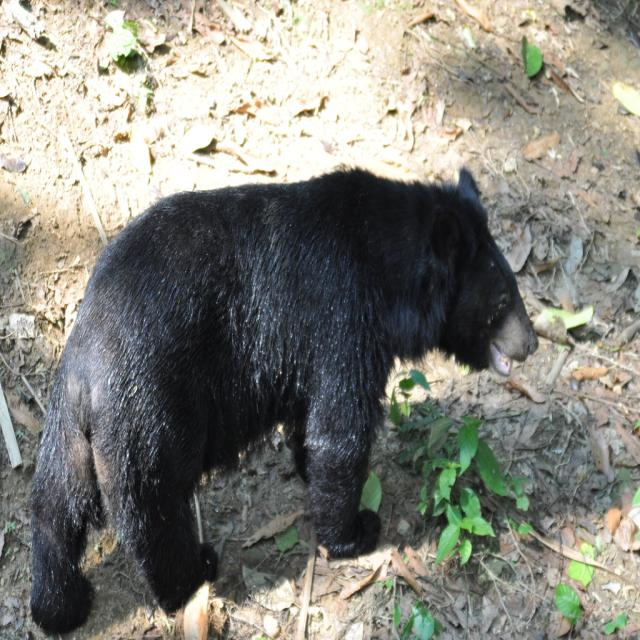Buffalo: (26, 161, 540, 639)
